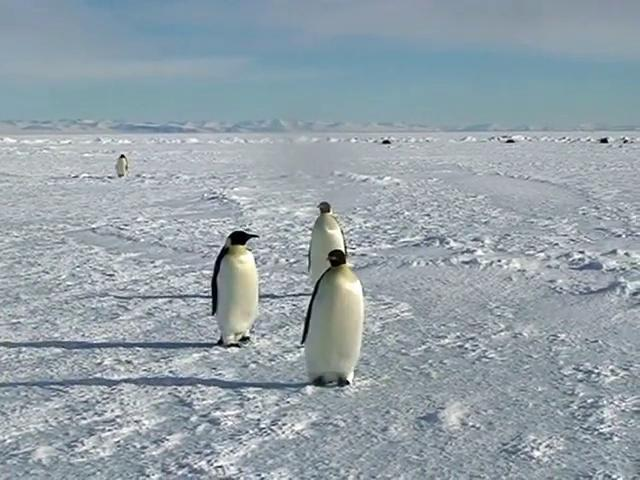animal: (310, 202, 349, 285)
